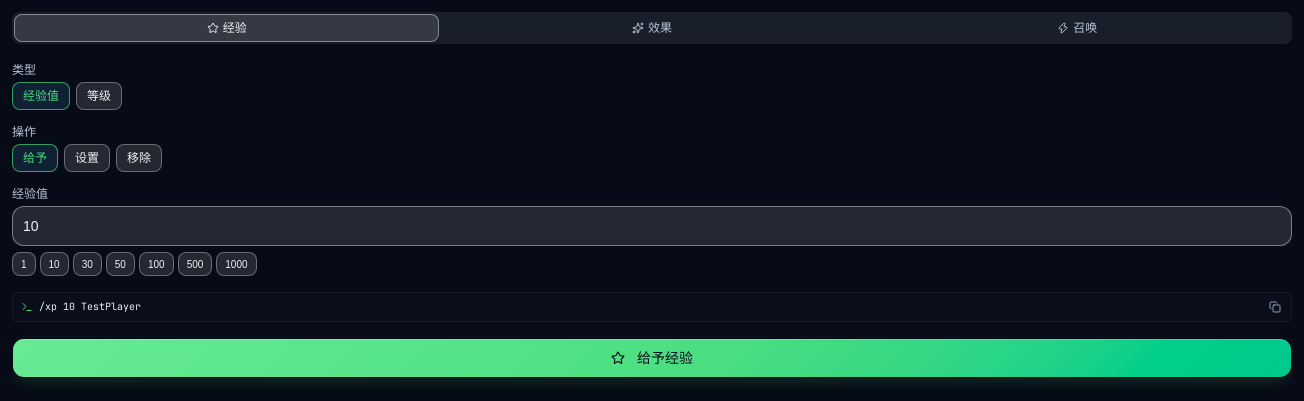
Test: ActionForms › 移除经验值生成带负号命令
Click the radio button "移除". click: (139, 158)
box: [116,144,162,172]
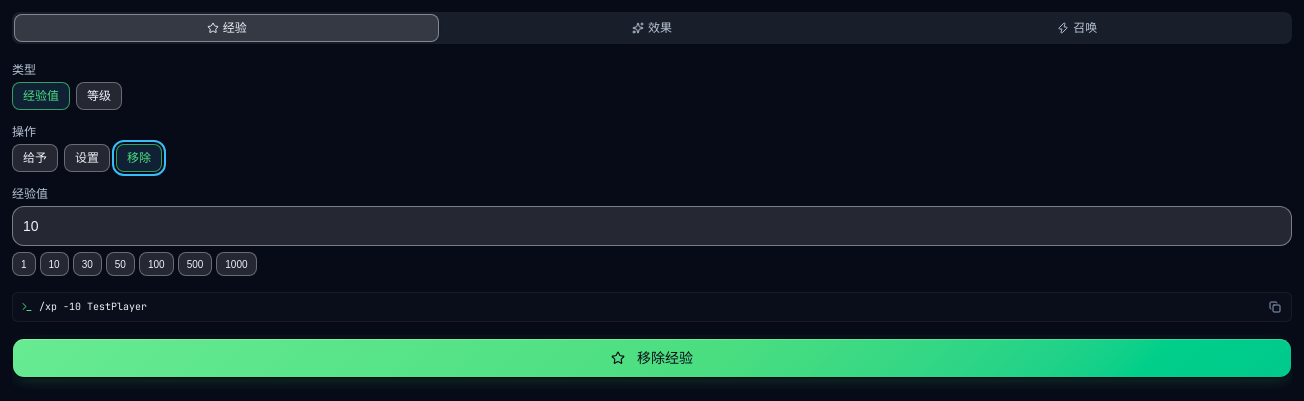
Now the text "/xp -10 TestPlayer" is shown, box [39,300,147,313]
